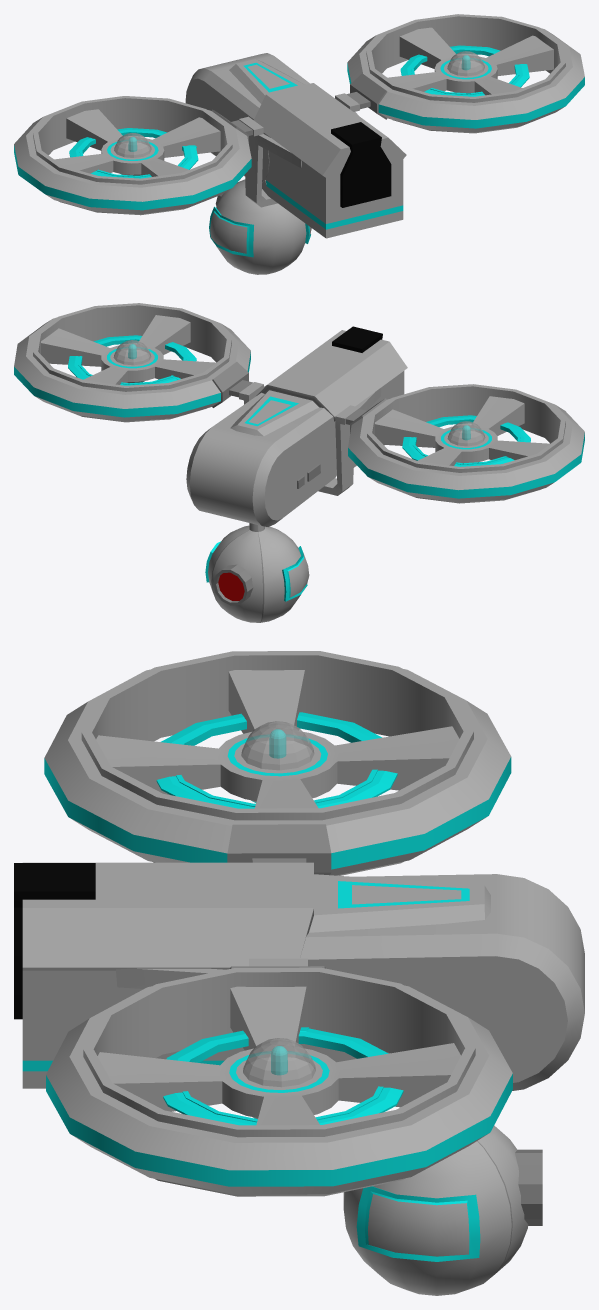
The model's file is Ennemi_drone_V2.fbx.
3 renders of one model, top to bottom at view 1: azimuth 30°, elevation 25°; view 2: azimuth 150°, elevation 25°; view 3: azimuth 270°, elevation 25°, orthographic. The views are drawn at different scales.
Visible parts, largest first — view 1: corps, aile_droite, aile_gauche, corps_cam, helice1, helice; view 2: corps, aile_droite, aile_gauche, corps_cam, helice, helice1, oeil_vision; view 3: corps, aile_gauche, aile_droite, helice1, helice, corps_cam, oeil_vision.
Boxes of the visible parts, x1,y1,x2,y2 form: corps: [185, 53, 406, 238]; aile_droite: [14, 96, 252, 215]; aile_gauche: [346, 14, 584, 133]; corps_cam: [209, 179, 311, 274]; helice1: [54, 109, 220, 176]; helice: [388, 27, 553, 95]; corps: [186, 326, 407, 526]; aile_droite: [345, 384, 584, 503]; aile_gauche: [14, 303, 252, 422]; corps_cam: [205, 523, 309, 622]; helice: [41, 315, 215, 384]; helice1: [374, 396, 549, 465]; oeil_vision: [213, 564, 253, 605]; corps: [14, 862, 584, 1090]; aile_gauche: [46, 966, 512, 1196]; aile_droite: [44, 651, 511, 875]; helice1: [96, 670, 459, 808]; helice: [97, 986, 460, 1125]; corps_cam: [343, 1125, 528, 1295]; oeil_vision: [515, 1149, 542, 1225].
Size of the model in its own units: 2.03 by 0.7554 by 0.9596.
